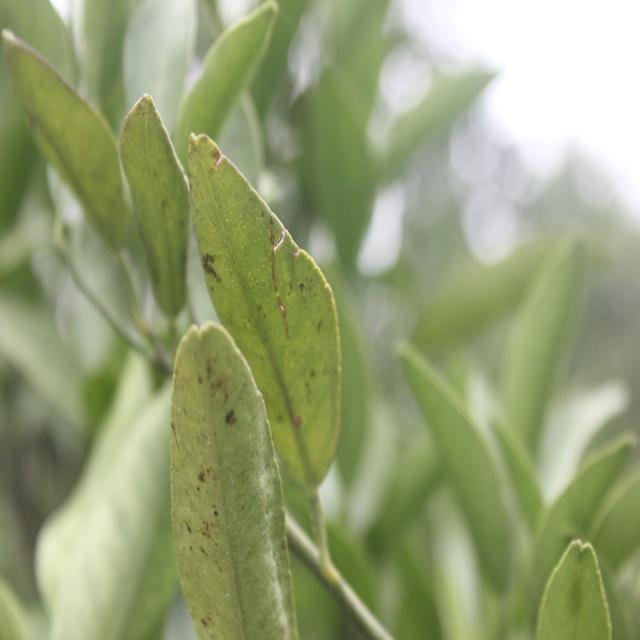melanose: (202, 154, 346, 465), (155, 336, 291, 640)
